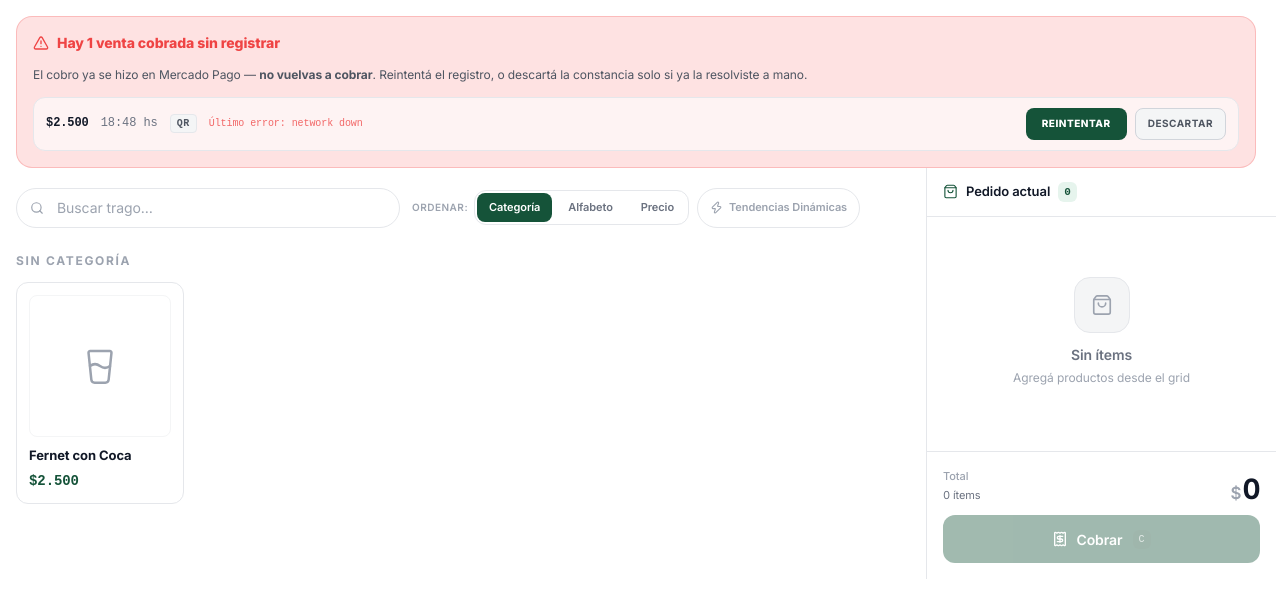
Test: VentaSection › Descartar pide confirmación explícita y recién ahí borra la constancia
This screenshot has width=1276, height=596.
Click the button "Descartar" at (1180, 124), box [1135, 108, 1226, 140]
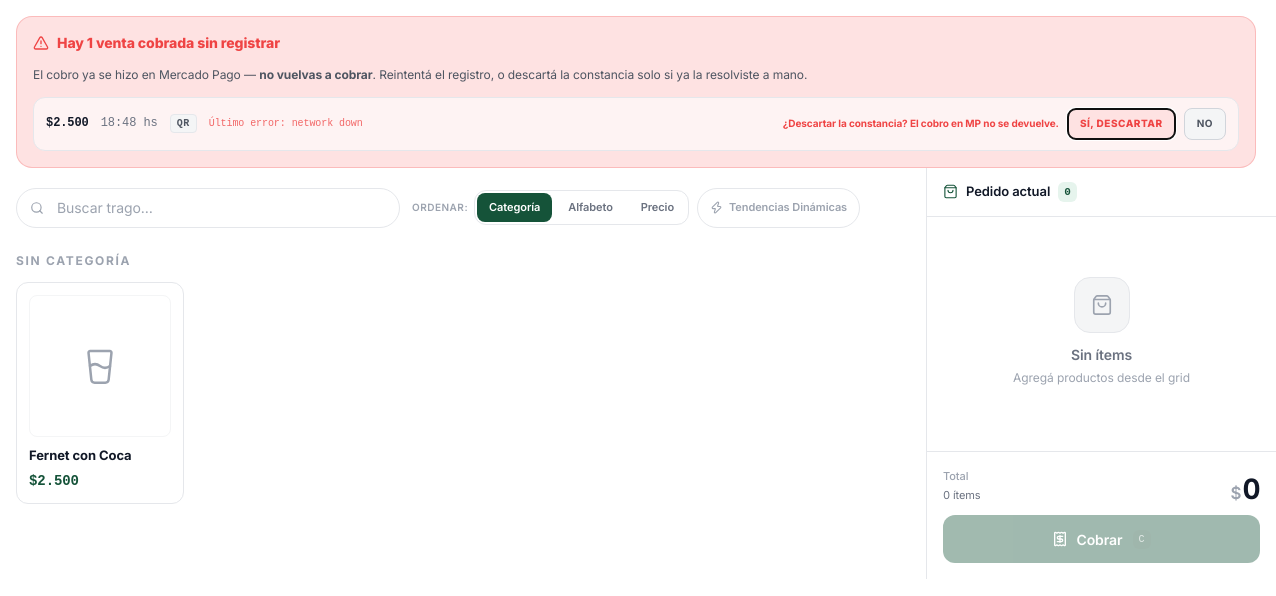
Expected: the message is shown, [16, 16, 1256, 168]
Expected: the text "¿Descartar la constancia? El cobro en MP no se devuelve." is shown, [783, 116, 1059, 131]
Click the button "No" at (1205, 124), box [1184, 108, 1226, 140]
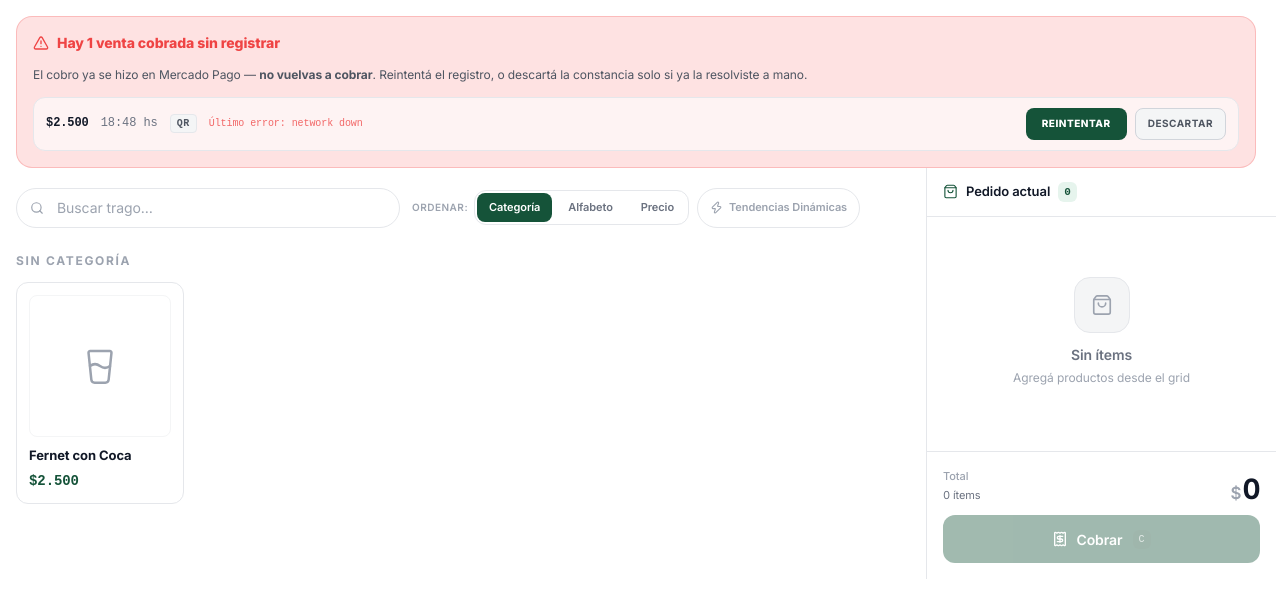
Expected: the message is shown, [16, 16, 1256, 168]
Expected: the text "¿Descartar la constancia?" is gone
Note: Descartar → "Sí, descartar" borra de verdad.
Click the button "Descartar" at (1180, 124), box [1135, 108, 1226, 140]
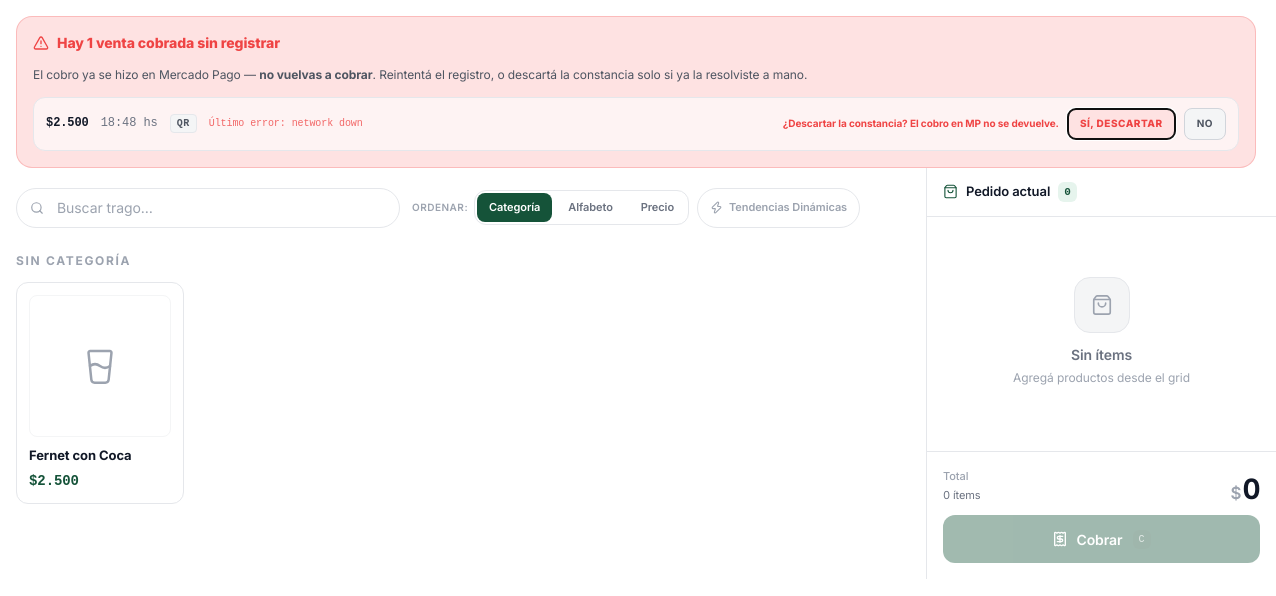
Click the button "Sí, descartar" at (1121, 124), box [1067, 108, 1176, 140]
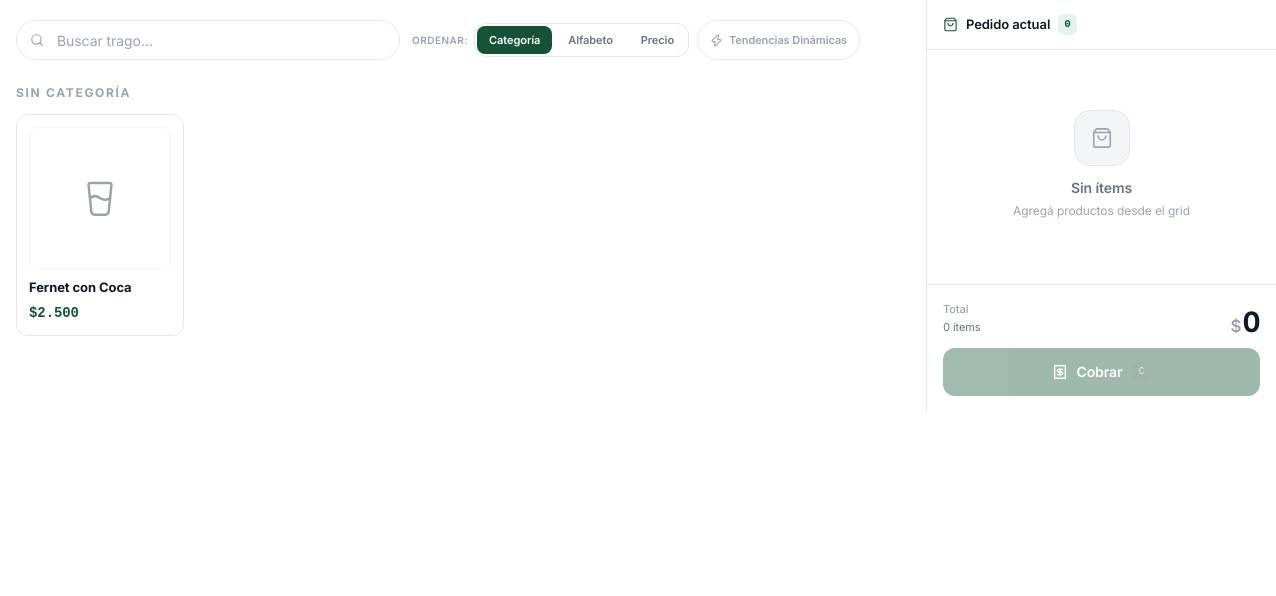
Expected: the message is gone
